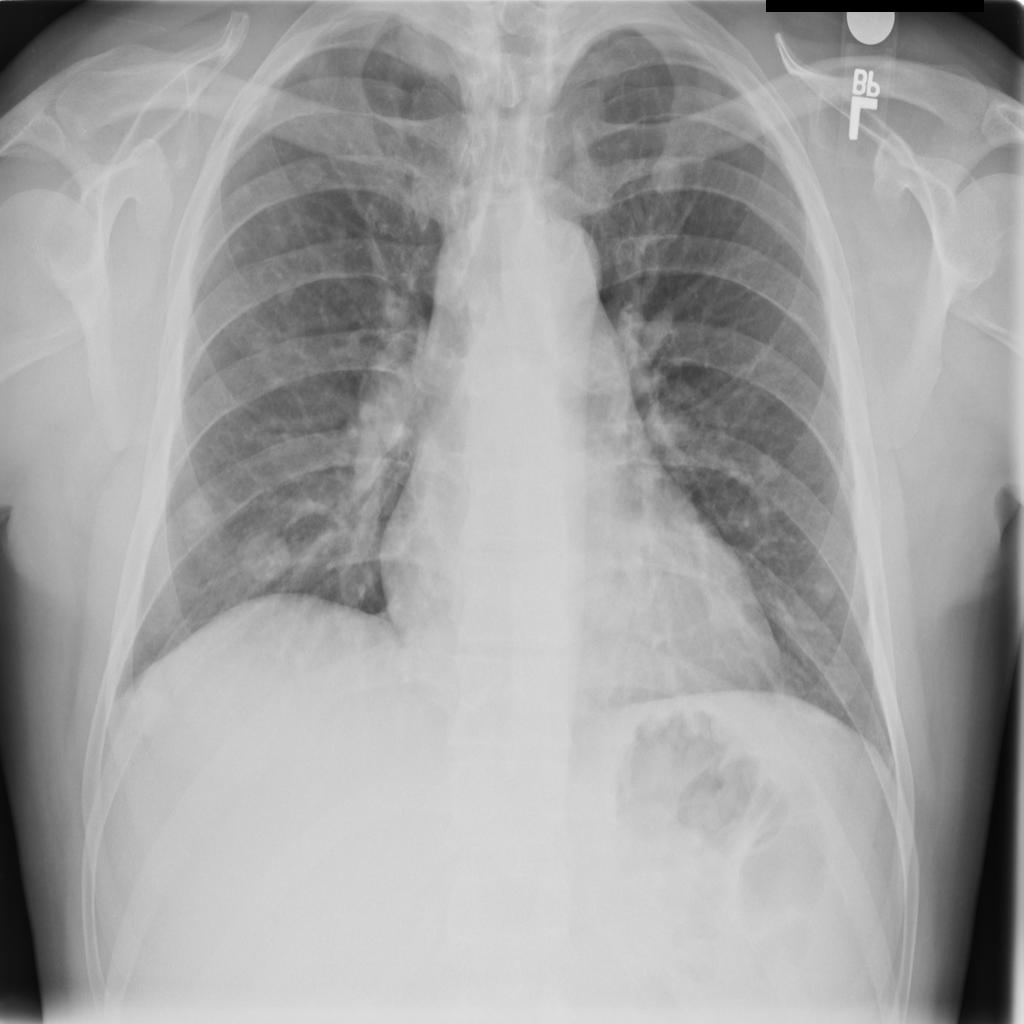nodule: (231, 513, 299, 597), (692, 566, 758, 646), (171, 475, 233, 554), (639, 138, 700, 213), (289, 141, 338, 197), (803, 559, 847, 617), (747, 437, 791, 492), (261, 268, 306, 321), (226, 173, 261, 212)
